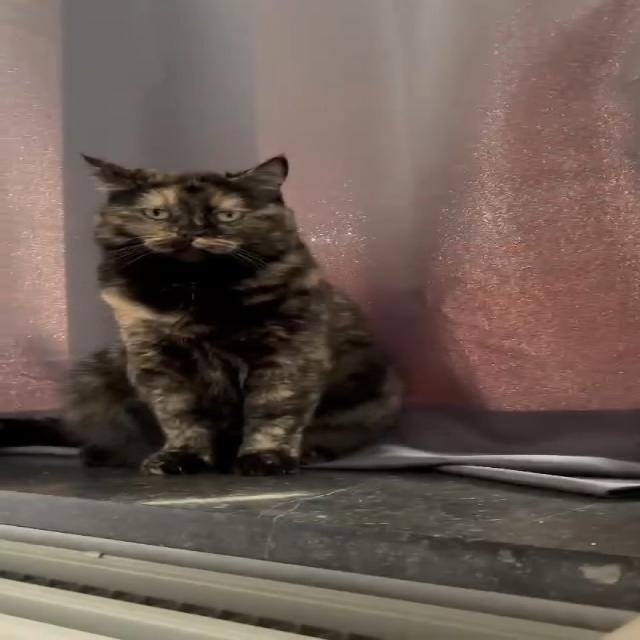authorized: (59, 152, 405, 476)
